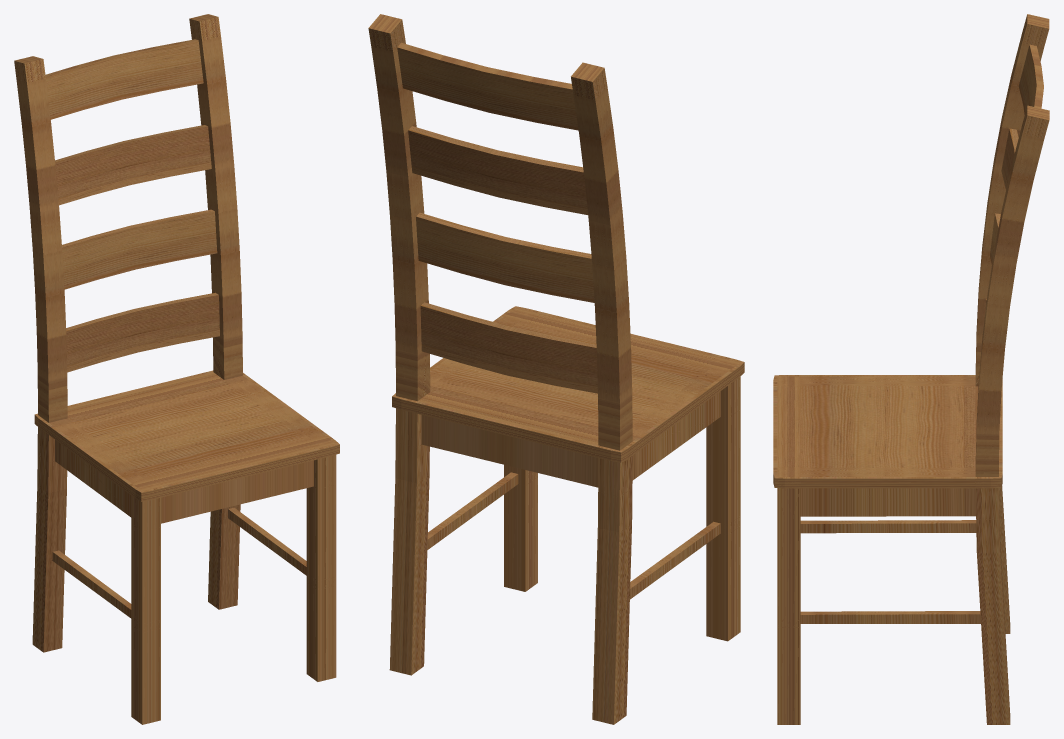
The model's file is Chair.FBX.
3 views of the same model, side by side, from view 1: azimuth 30°, elevation 25°; view 2: azimuth 150°, elevation 25°; view 3: azimuth 270°, elevation 25° (orthographic). The views are drawn at different scales.
Visible parts, largest first — view 1: Chair; view 2: Chair; view 3: Chair.
Part boxes in pixels (bbox=[...]): Chair: bbox=[14, 14, 339, 724]; Chair: bbox=[368, 14, 744, 724]; Chair: bbox=[773, 14, 1049, 724].
Size of the model in its own units: 45.37 by 125 by 51.05.
Materials: 1 (1 with a texture image).
